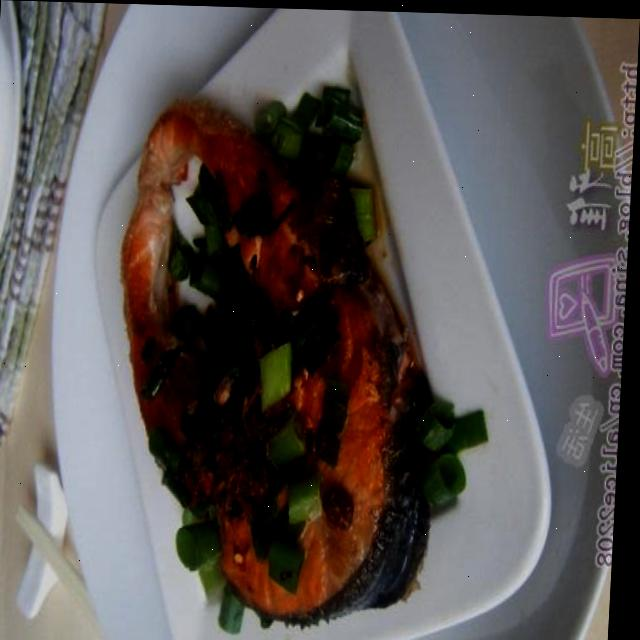熟制海鲜: (41, 13, 591, 640)
